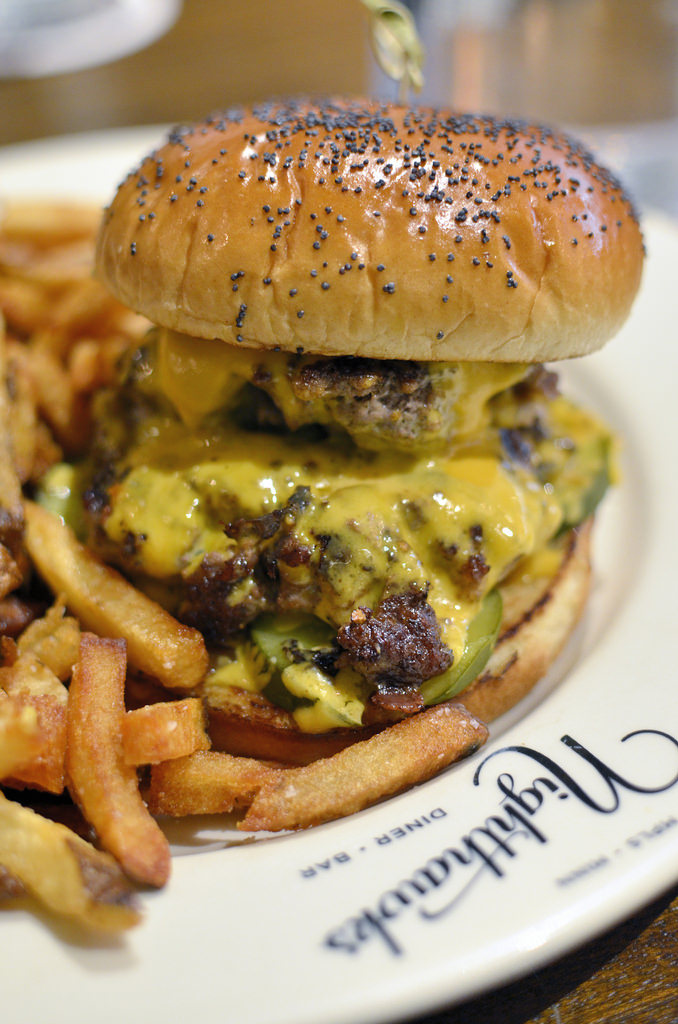slice of bread: (123, 130, 642, 363)
